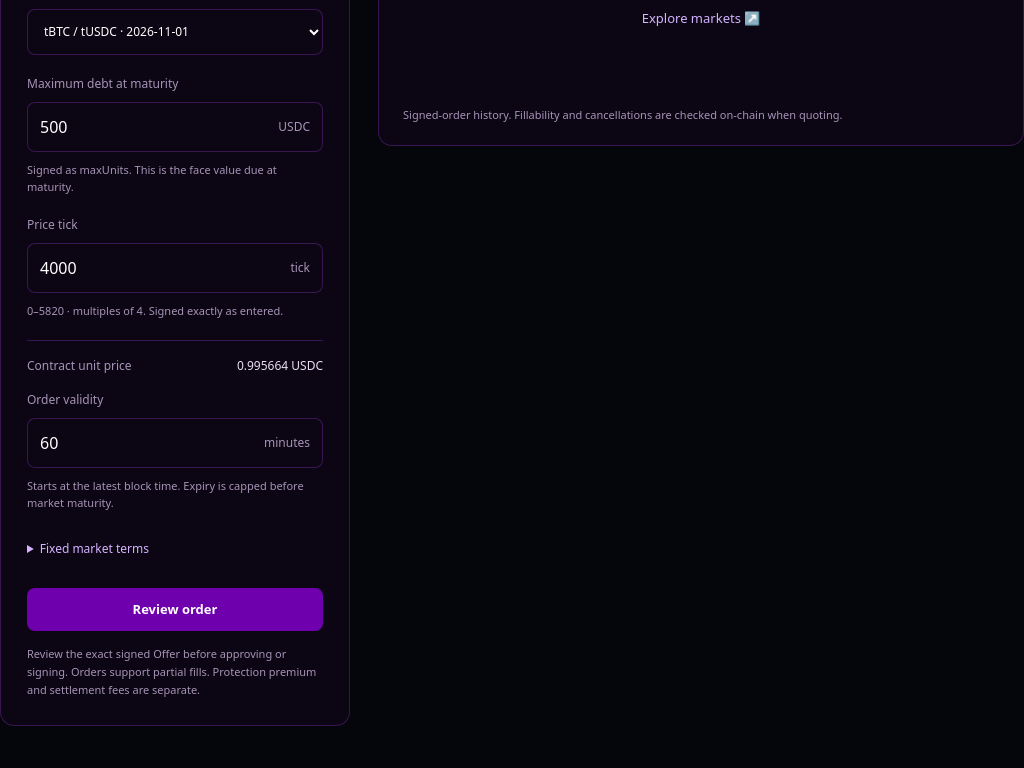
Test: does not show raw wallet rejection arguments or internal transaction stages
(page scrolled)
Click the button "Review order" at (175, 609), box [27,588,323,631]
(page scrolled)
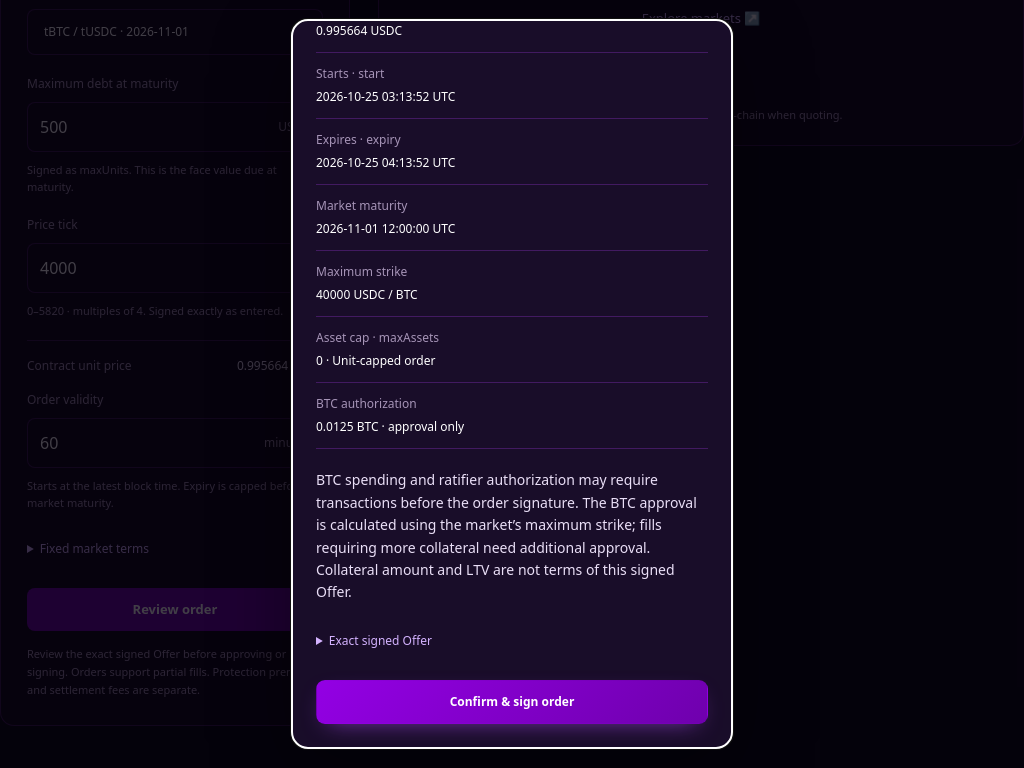
Click the button "Confirm & sign order" at (512, 702), box [316,680,708,724]
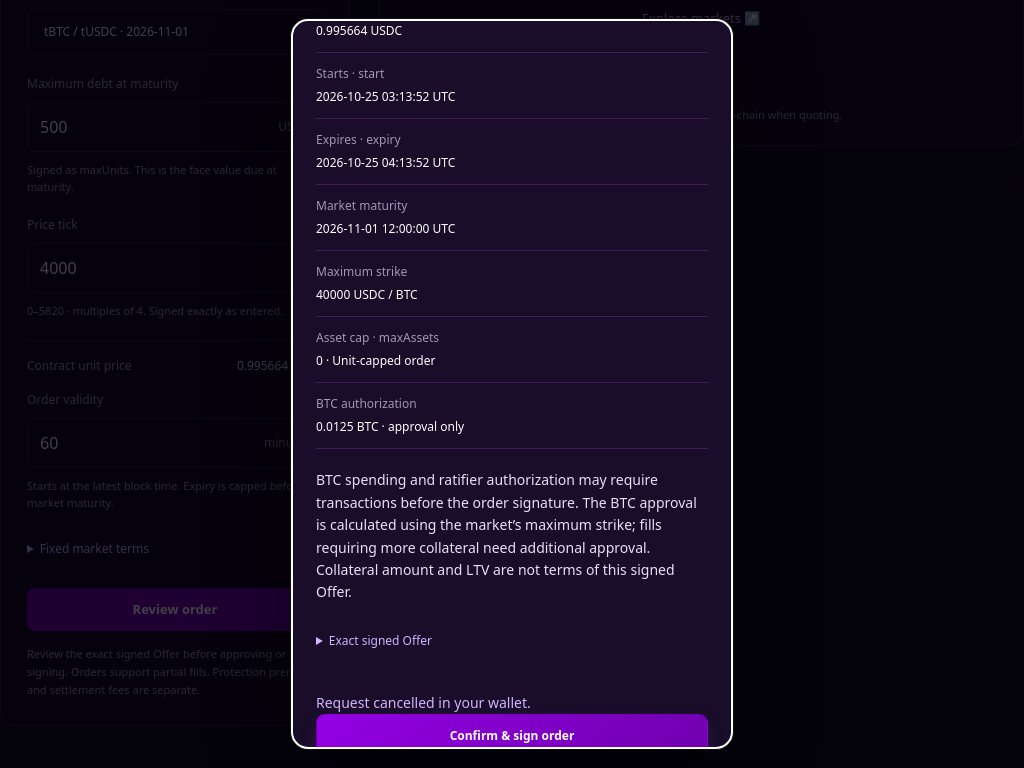
Result: the message reads "Request cancelled in your wallet." at [316,693,531,712]
